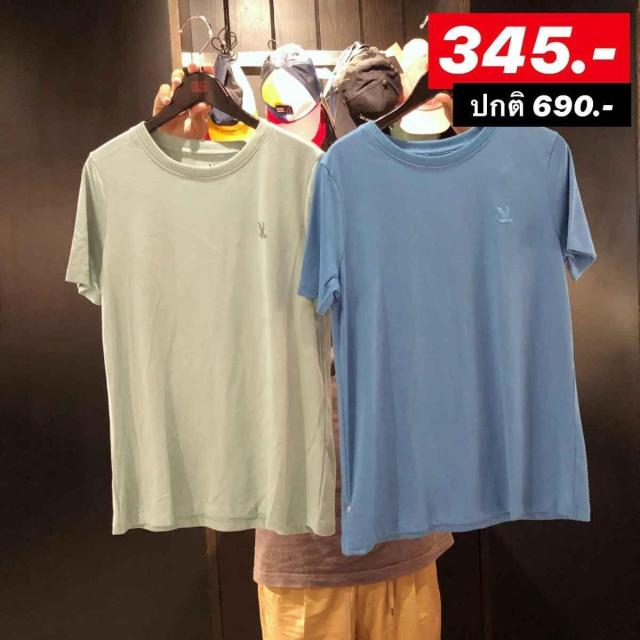Tshirt: (300, 110, 597, 557), (62, 103, 342, 538)
